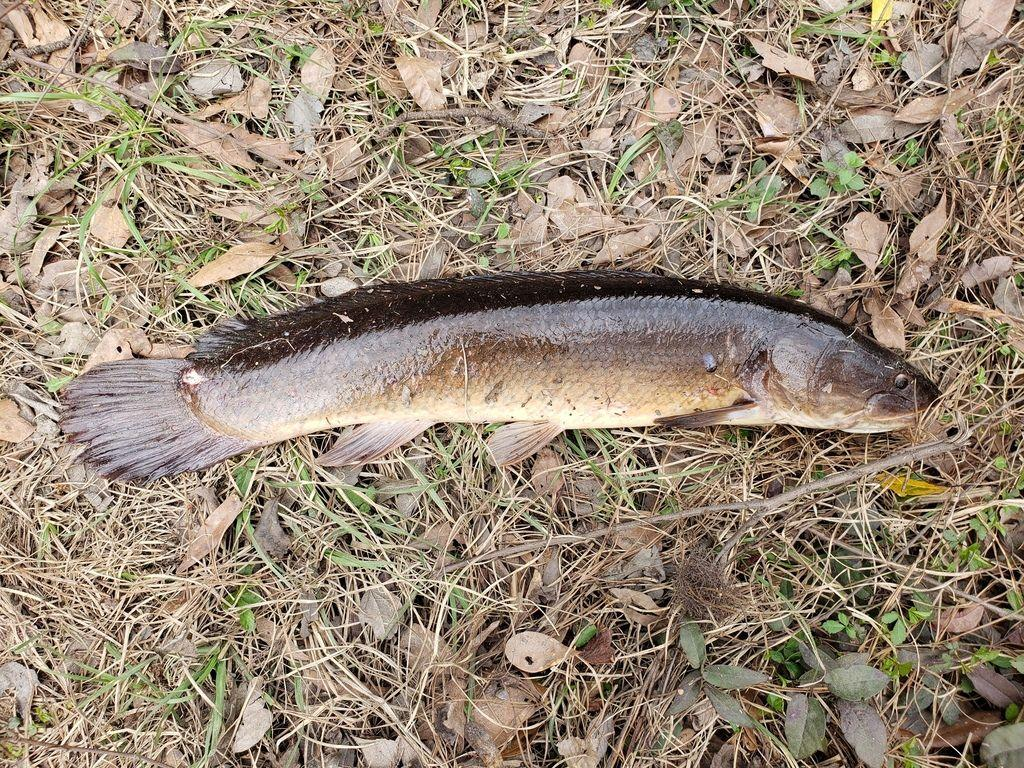Mudfish: (55, 262, 942, 474)
